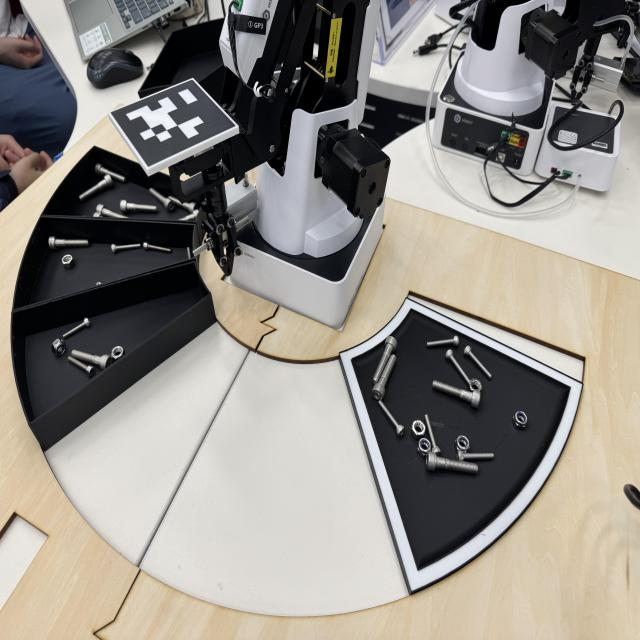big: (424, 450, 483, 483), (365, 334, 400, 385), (425, 377, 482, 408), (372, 353, 399, 405), (75, 171, 117, 204), (69, 344, 115, 372), (143, 185, 176, 214), (93, 161, 129, 187), (119, 195, 160, 214), (44, 235, 90, 250)
board: (337, 278, 586, 589)
box: (0, 243, 231, 439), (45, 140, 206, 272), (19, 217, 194, 316)
circle: (44, 331, 68, 358), (414, 434, 435, 459), (513, 405, 532, 431), (409, 417, 432, 438), (60, 247, 76, 269), (454, 436, 473, 454), (111, 342, 126, 363)
small: (372, 396, 407, 439), (462, 345, 497, 383), (442, 347, 473, 388), (421, 411, 443, 457), (57, 315, 93, 342), (62, 354, 99, 380), (455, 447, 496, 462), (424, 334, 461, 350), (141, 240, 175, 255), (110, 240, 145, 254)
